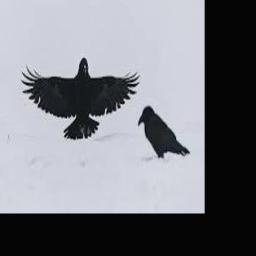Crow: (20, 57, 139, 140), (138, 105, 190, 158)
